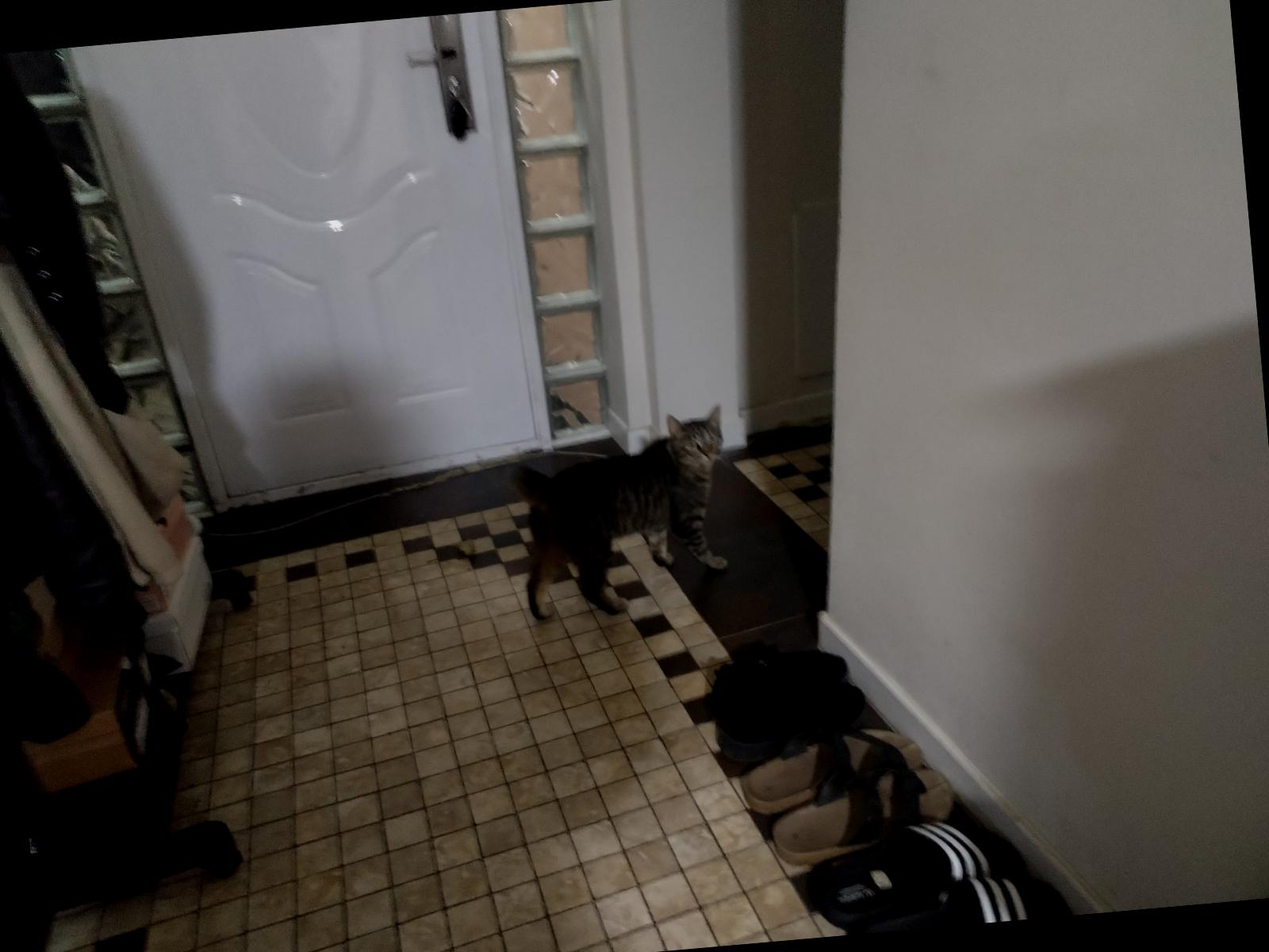macka: (504, 404, 737, 624)
